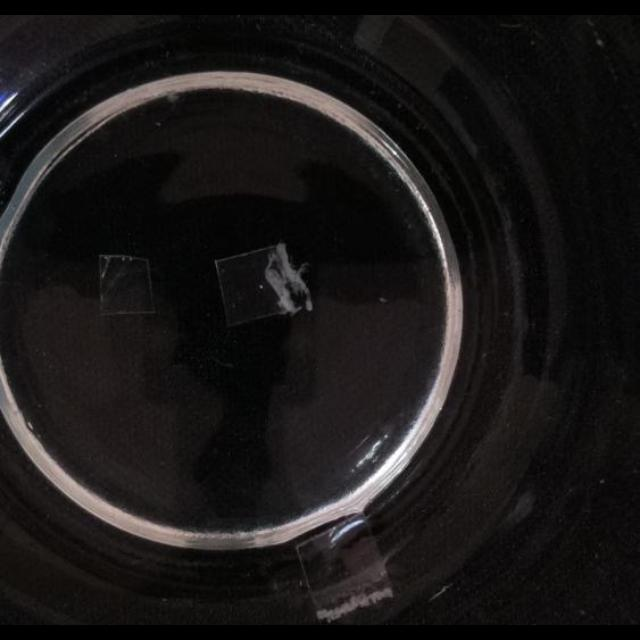Film: (292, 514, 396, 624), (212, 242, 314, 328), (96, 248, 156, 318)
